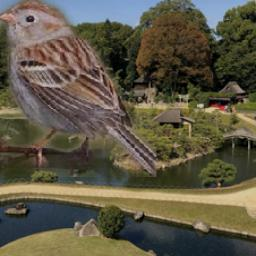Sparrow: (0, 1, 156, 178)
